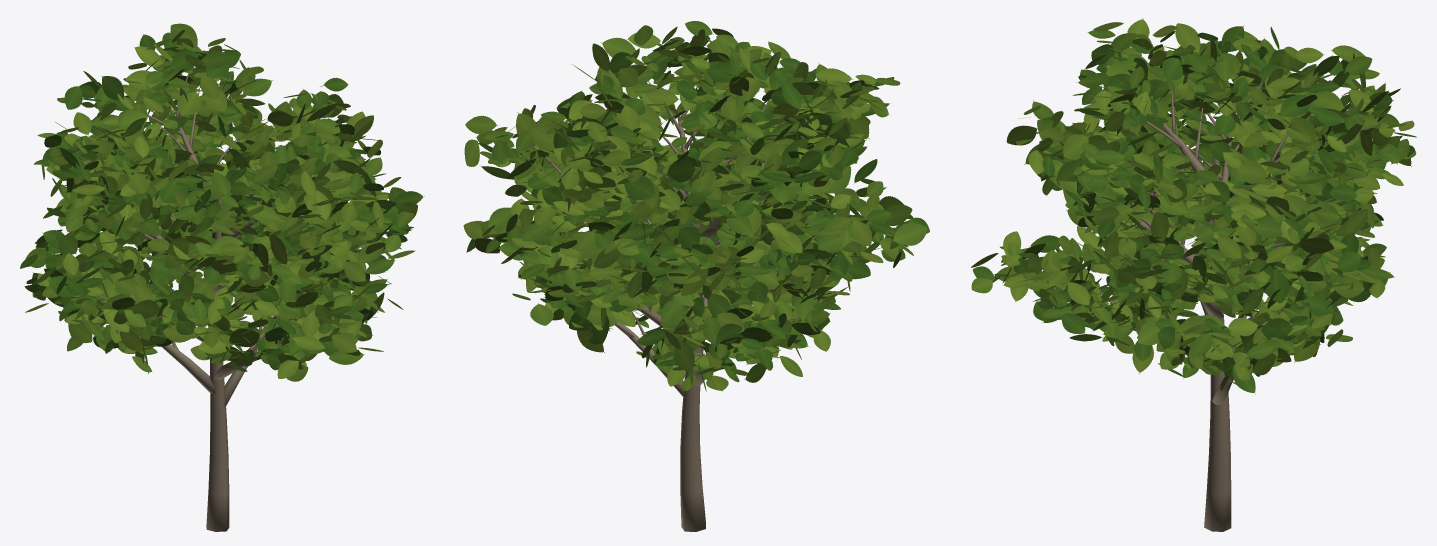
The model's file is tree-lod.glb.
3 views of the same model, side by side, from view 1: azimuth 30°, elevation 25°; view 2: azimuth 150°, elevation 25°; view 3: azimuth 270°, elevation 25° (orthographic). The views are drawn at different scales.
Visible parts, largest first — view 1: tree-leaf-LOD1, tree-bark-LOD1; view 2: tree-leaf-LOD1, tree-bark-LOD1; view 3: tree-leaf-LOD1, tree-bark-LOD1.
Part boxes in pixels (x1,y1,x2,y2): tree-leaf-LOD1: [20, 23, 424, 381]; tree-bark-LOD1: [79, 70, 365, 531]; tree-leaf-LOD1: [463, 21, 929, 391]; tree-bark-LOD1: [532, 81, 863, 531]; tree-leaf-LOD1: [971, 18, 1416, 394]; tree-bark-LOD1: [1052, 82, 1332, 531].
Bounding box in the file's own units: 9.46 × 9.63 × 8.62.
2 materials, 1 textured.
